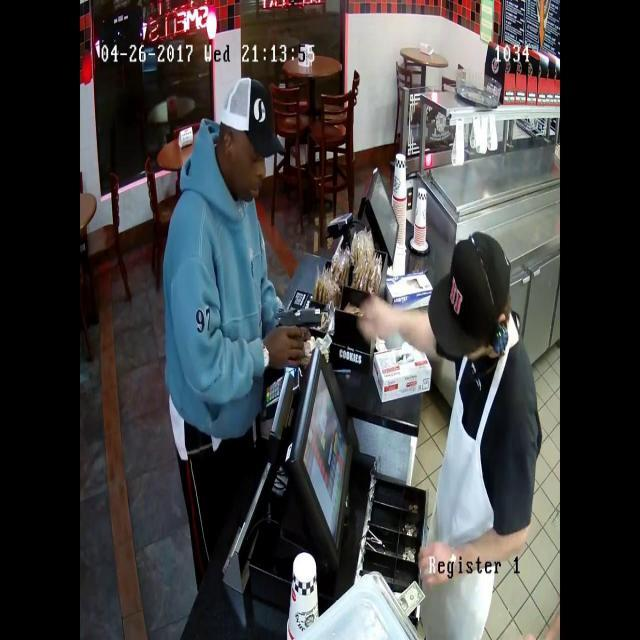weapon: (260, 283, 334, 362)
